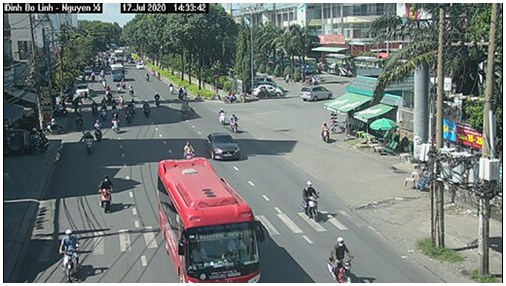xe_buyt: (155, 159, 264, 286)
xe_hoi: (299, 84, 333, 102)
xe_may: (325, 237, 354, 283), (60, 229, 81, 282), (302, 179, 320, 220), (97, 175, 114, 214), (179, 138, 196, 160), (83, 130, 95, 155), (110, 112, 121, 136), (320, 121, 331, 143), (124, 105, 134, 126), (93, 118, 102, 141), (231, 112, 240, 135), (152, 90, 162, 109), (142, 101, 152, 118), (219, 105, 226, 127), (75, 112, 83, 131), (91, 100, 98, 118), (168, 81, 175, 96), (129, 85, 135, 98), (178, 86, 183, 101), (107, 91, 112, 105), (144, 72, 151, 81)
xe_tai: (110, 63, 126, 83)
